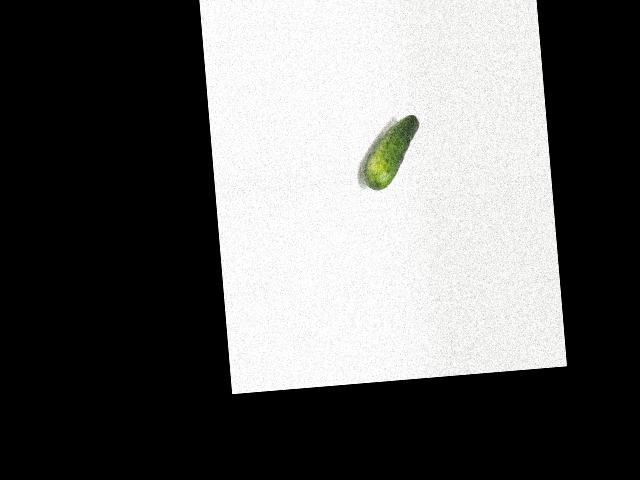cucumber: (360, 114, 424, 190)
